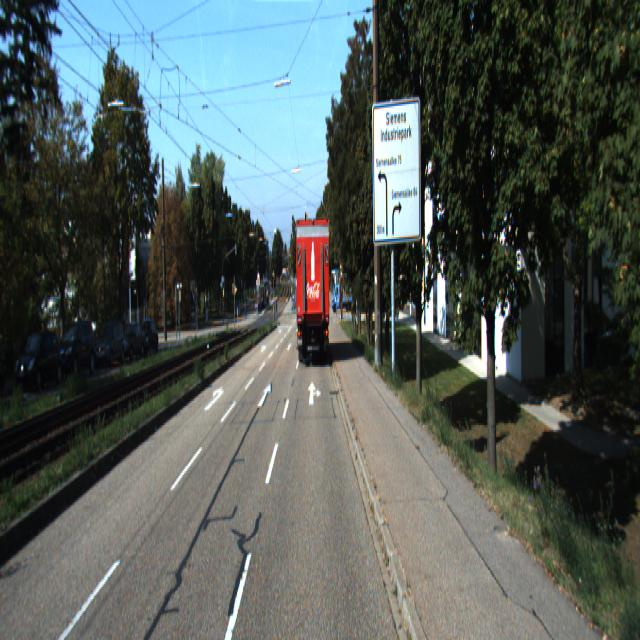Car: (294, 215, 332, 367), (16, 331, 67, 394), (54, 321, 97, 377), (94, 320, 127, 371), (117, 322, 145, 362)
